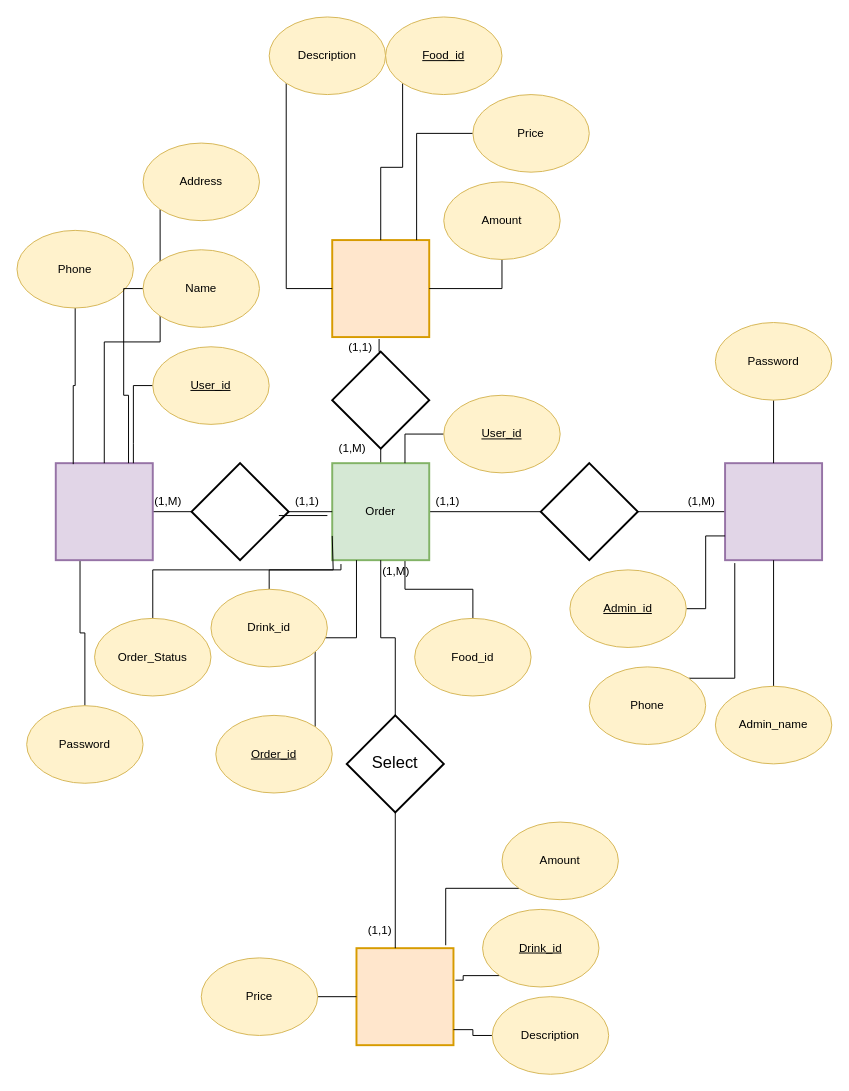
The diagram is 849 pixels wide and 1091 high, and some of its shapes have lost their labels. Here are the shapes that lost their labels. From the top down, the centre of each, then its label:
[380,288]: Food
[380,399]: Has
[103,511]: User
[239,511]: Places
[588,511]: Managed By
[773,511]: Admin
[404,996]: Drink
